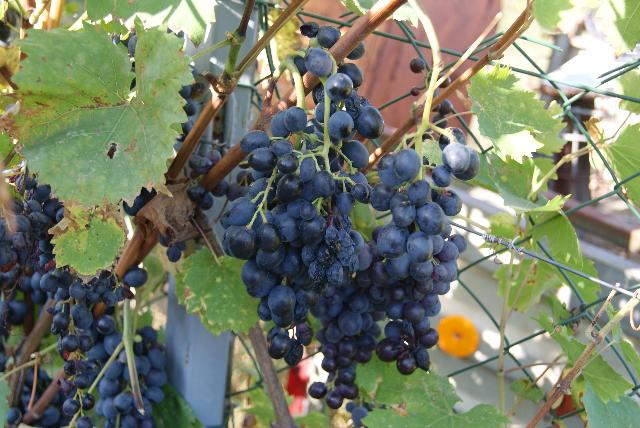grapes: (221, 24, 384, 328), (366, 148, 460, 374), (302, 212, 381, 409)
